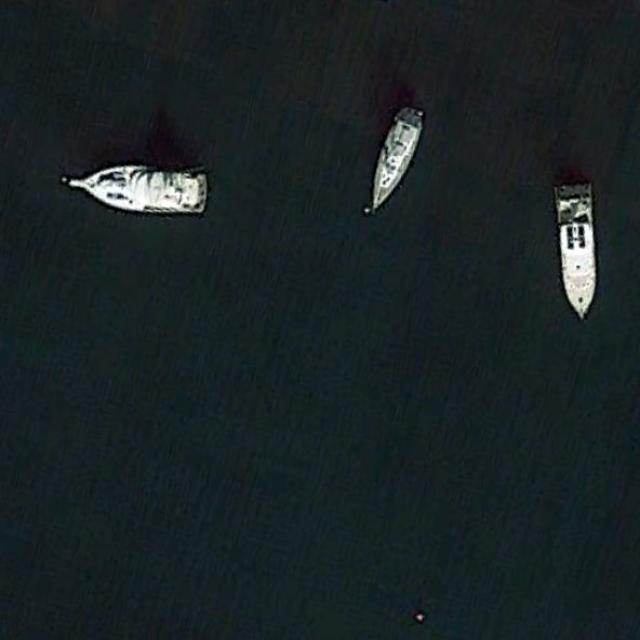boat: (66, 163, 210, 217), (552, 177, 599, 320), (367, 104, 425, 212)
